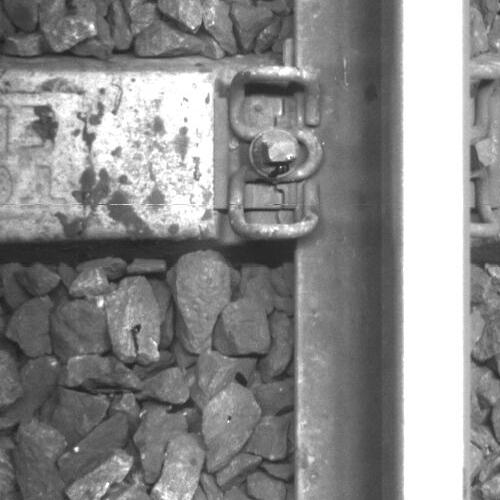rail: (394, 1, 471, 500)
tie_concr: (1, 72, 293, 236)
vossloh: (214, 66, 322, 240)
